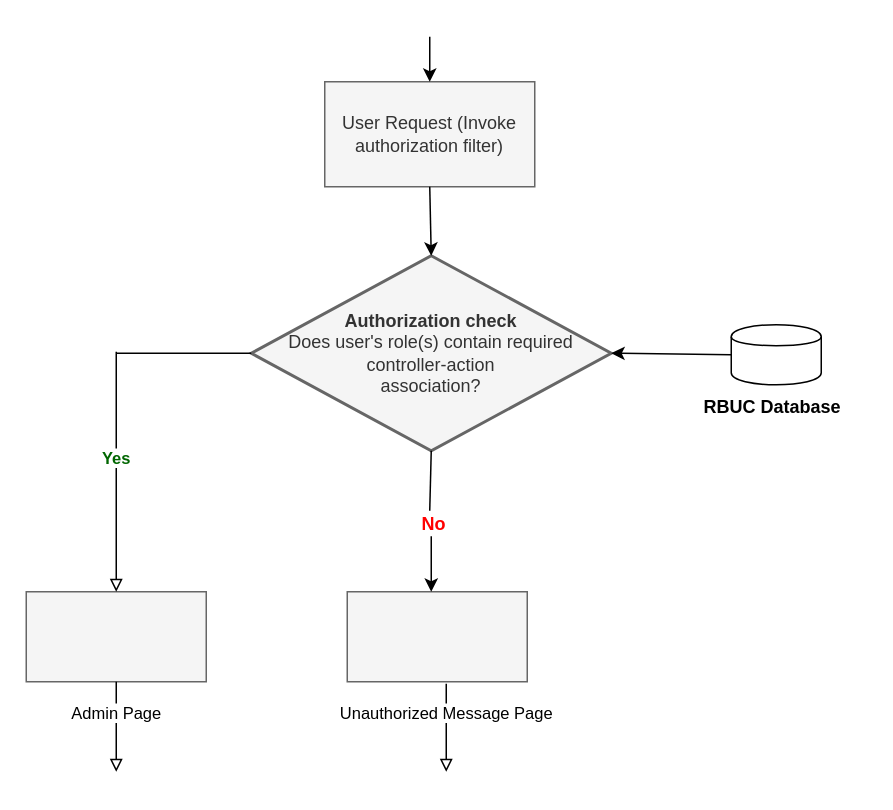
This 893x810 diagram has some shape labels left out. The shapes that lost their labels are listed below. From the top down, each one's box as (x1, y1, x2, y2) in pixels, then its label:
(25, 590, 206, 682): Action Result
(346, 590, 527, 682): Unauthorized Page Response
